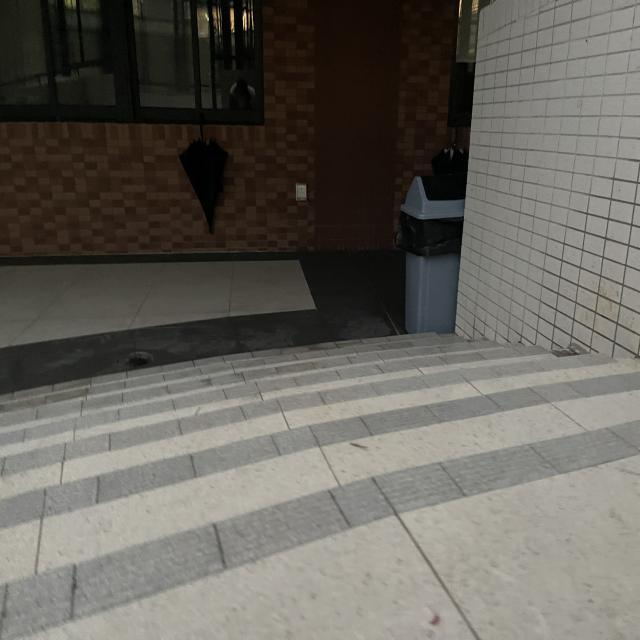Stairs: (0, 324, 640, 640)
